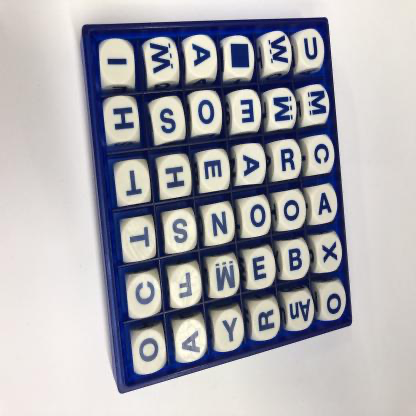a: (186, 38, 218, 79), (176, 321, 207, 362), (238, 145, 267, 185), (312, 187, 337, 221)
an: (288, 295, 315, 329)
b: (282, 243, 309, 279)
c: (128, 276, 161, 318), (309, 138, 334, 172)
e: (199, 154, 230, 192), (233, 92, 262, 129), (247, 251, 275, 289)
f: (169, 267, 202, 307)
h: (104, 100, 139, 144), (160, 157, 191, 199)
i: (101, 41, 135, 85)
m: (210, 257, 240, 298), (268, 90, 296, 126), (303, 88, 331, 122)
n: (205, 206, 234, 243)
o: (133, 332, 167, 374), (192, 93, 222, 134), (243, 199, 271, 236), (278, 192, 306, 228), (321, 285, 346, 320)
r: (252, 301, 282, 340), (274, 142, 301, 179)
s: (152, 100, 185, 142), (166, 212, 197, 252)
t: (115, 163, 150, 203), (122, 220, 155, 262)
u: (297, 31, 325, 66)
w: (145, 38, 181, 81), (263, 31, 292, 69)
wild: (224, 40, 255, 77)
x: (316, 237, 341, 270)
y: (216, 313, 246, 352)
